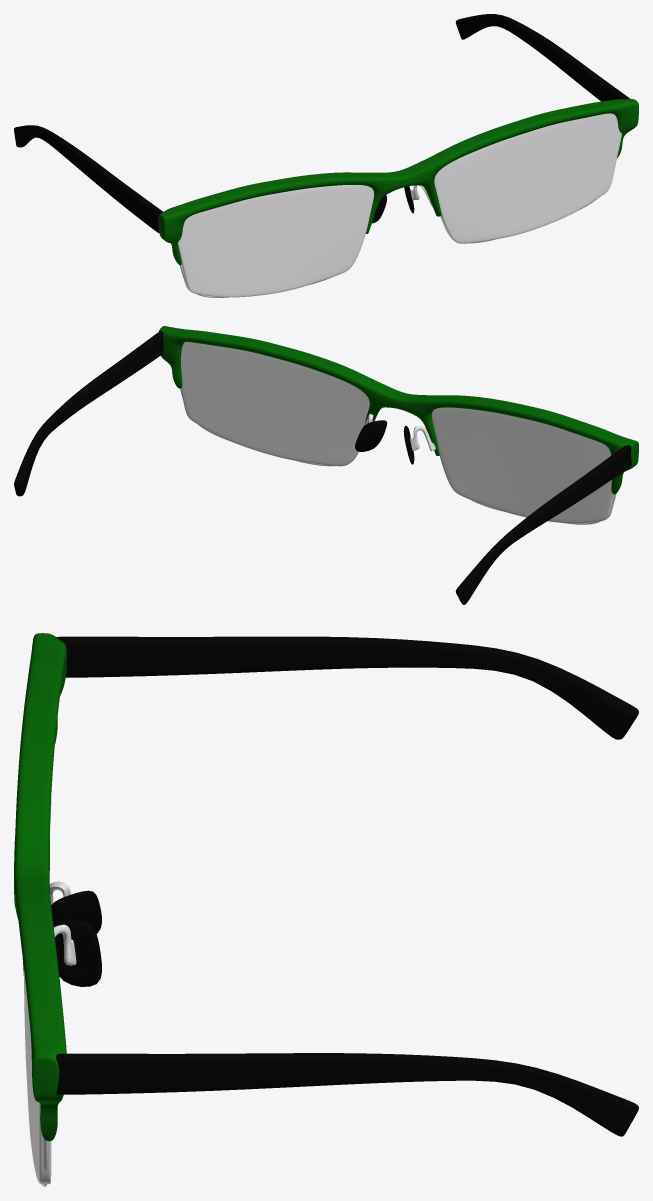
File: glass3.glb
3 views of the same model, one above another, from view 1: azimuth 30°, elevation 25°; view 2: azimuth 150°, elevation 25°; view 3: azimuth 270°, elevation 25° (orthographic). The views are drawn at different scales.
Visible parts, largest first — view 1: Cube.002, Cube, Cube.001; view 2: Cube.002, Cube, Cube.001, BezierCurve.002; view 3: Cube.001, Cube, BezierCurve.002, Cube.002, BezierCurve.001.
Part boxes in pixels (bbox=[...]): Cube.002: bbox=[178, 113, 621, 297]; Cube: bbox=[158, 99, 638, 265]; Cube.001: bbox=[14, 14, 629, 232]; Cube.002: bbox=[180, 342, 613, 523]; Cube: bbox=[159, 326, 638, 494]; Cube.001: bbox=[14, 331, 631, 604]; BezierCurve.002: bbox=[355, 420, 414, 464]; Cube.001: bbox=[56, 636, 638, 1136]; Cube: bbox=[14, 633, 66, 1141]; BezierCurve.002: bbox=[51, 890, 101, 986]; Cube.002: bbox=[24, 798, 51, 1184]; BezierCurve.001: bbox=[49, 881, 76, 965].
Size of the model in its own units: 4.32 by 0.9546 by 2.69.
